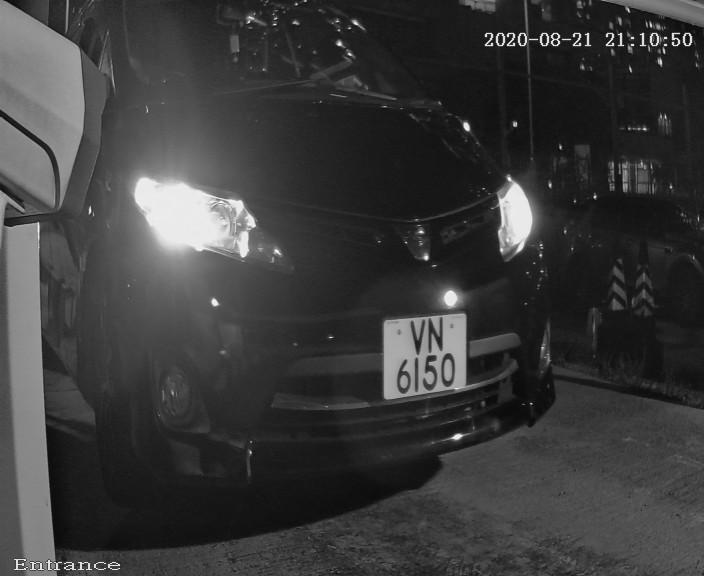Car: (13, 6, 613, 541)
License Plate: (378, 299, 478, 417)
